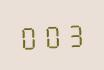three: (63, 19, 84, 48)
zero: (18, 21, 39, 50), (41, 20, 62, 49)
